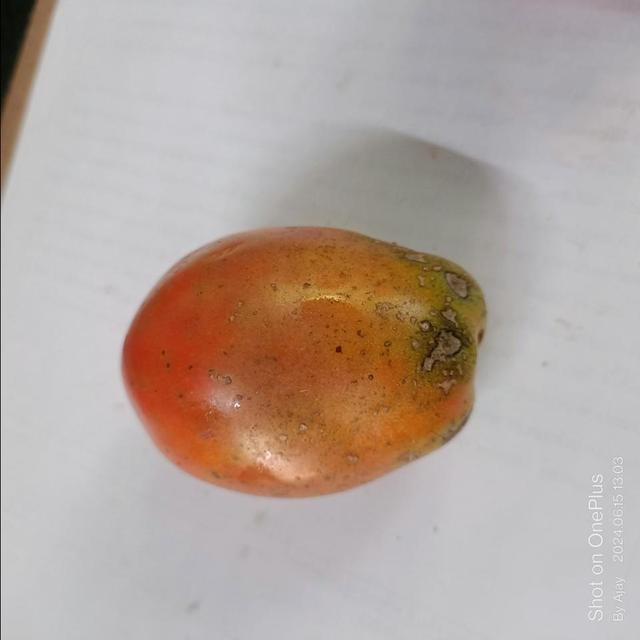Bacterial Spot Fruit: (15, 9, 303, 235)
